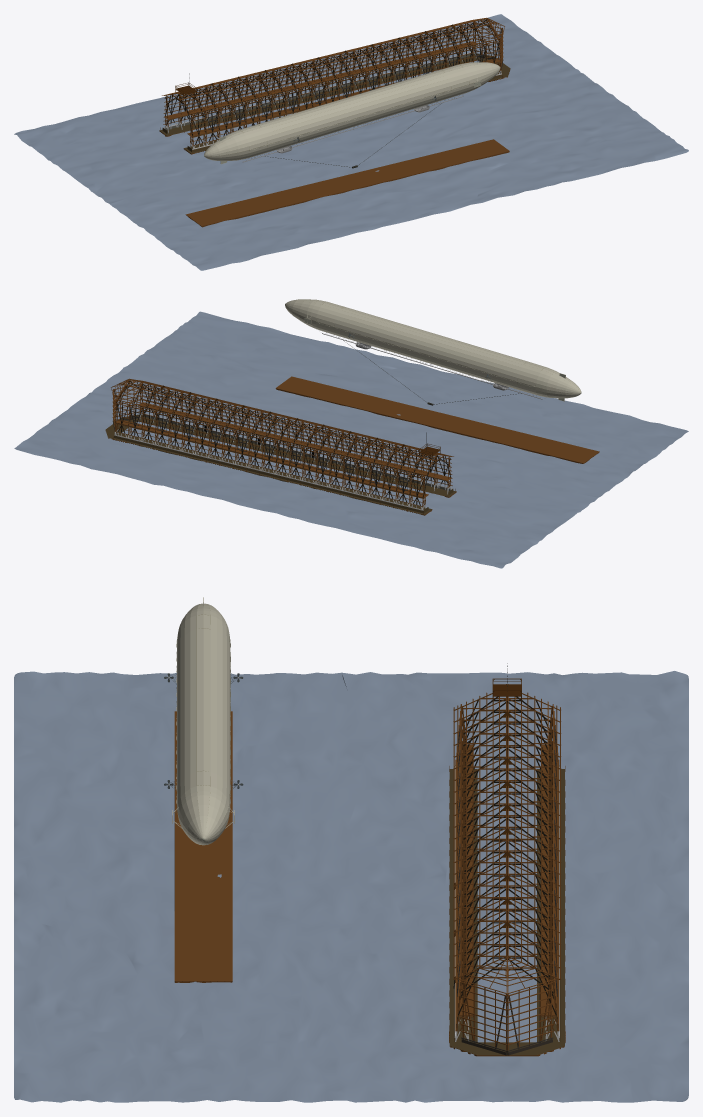
3 views of the same model, one above another, from view 1: azimuth 30°, elevation 25°; view 2: azimuth 150°, elevation 25°; view 3: azimuth 270°, elevation 25° (orthographic). The views are drawn at different scales.
Visible parts, largest first — view 1: Wasser, Hallen-Struktur, Rumpf, Ponton_top, Kreuz, Streben, Fenster, Panele unten, Hallen-Struktur_H; view 2: Wasser, Hallen-Struktur, Rumpf, Ponton_top, Kreuz, Streben, Panele unten, Fenster, Hallen-Struktur_H; view 3: Wasser, Hallen-Struktur, Rumpf, Ponton_top, Streben, Hallen-Struktur_H, Fenster, Balken Dach H.
Part boxes in pixels (bbox=[...]): Wasser: bbox=[14, 14, 688, 270]; Hallen-Struktur: bbox=[159, 17, 510, 154]; Rumpf: bbox=[204, 62, 500, 161]; Ponton_top: bbox=[185, 139, 509, 227]; Kreuz: bbox=[164, 24, 499, 148]; Streben: bbox=[165, 19, 499, 136]; Fenster: bbox=[181, 26, 485, 129]; Panele unten: bbox=[162, 54, 501, 152]; Hallen-Struktur_H: bbox=[475, 22, 503, 73]; Wasser: bbox=[14, 311, 688, 568]; Hallen-Struktur: bbox=[105, 378, 456, 515]; Rumpf: bbox=[285, 299, 581, 398]; Ponton_top: bbox=[275, 376, 599, 463]; Kreuz: bbox=[116, 384, 451, 509]; Streben: bbox=[116, 380, 450, 497]; Panele unten: bbox=[114, 415, 453, 513]; Fenster: bbox=[130, 387, 434, 490]; Hallen-Struktur_H: bbox=[112, 383, 141, 434]; Wasser: bbox=[14, 671, 688, 1102]; Hallen-Struktur: bbox=[449, 684, 565, 1056]; Rumpf: bbox=[177, 603, 230, 845]; Ponton_top: bbox=[174, 711, 232, 982]; Streben: bbox=[458, 696, 556, 1015]; Hallen-Struktur_H: bbox=[461, 971, 553, 1055]; Fenster: bbox=[457, 726, 557, 996]; Balken Dach H: bbox=[455, 956, 559, 994].
Size of the model in its own units: 211 by 38.98 by 141.
